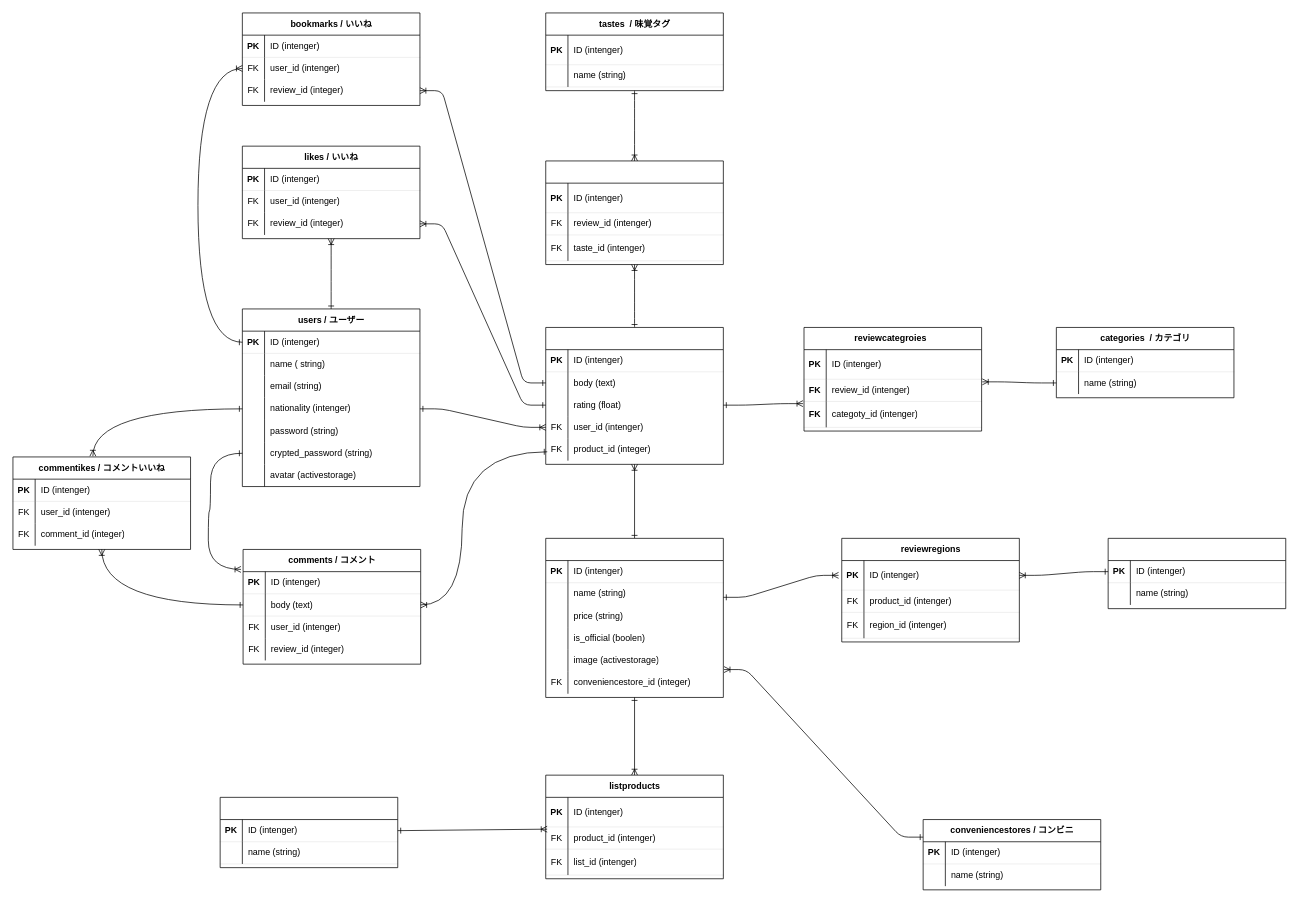
Image size: 1299x903. Some labels were removed from this diagram. Here are the shapes that lost their labels. From the top down, the box of each, then its label:
(545, 160, 723, 265): review_tastes
(545, 327, 723, 464): reviews / レビュー投稿
(1107, 538, 1286, 609): regions / 地域タグ
(545, 538, 723, 697): products / 商品
(219, 797, 398, 868): lists / リスト
